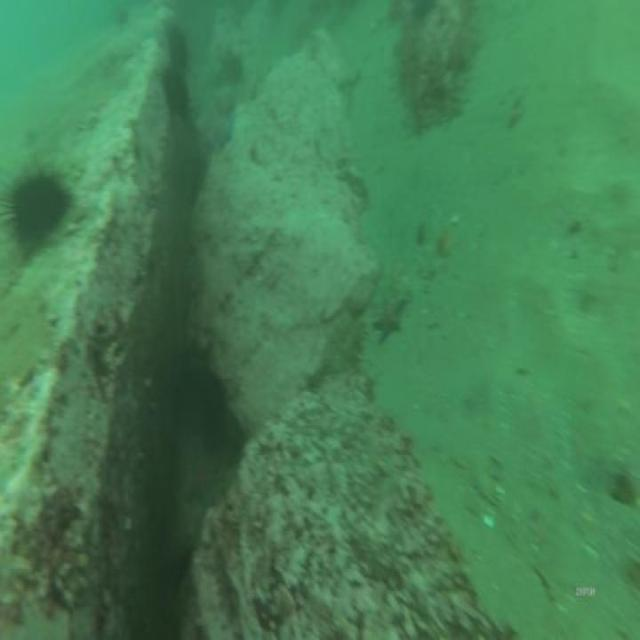echinus: (1, 160, 76, 256), (163, 62, 190, 123), (166, 21, 190, 72)
starfish: (369, 286, 409, 352), (204, 110, 240, 160)
